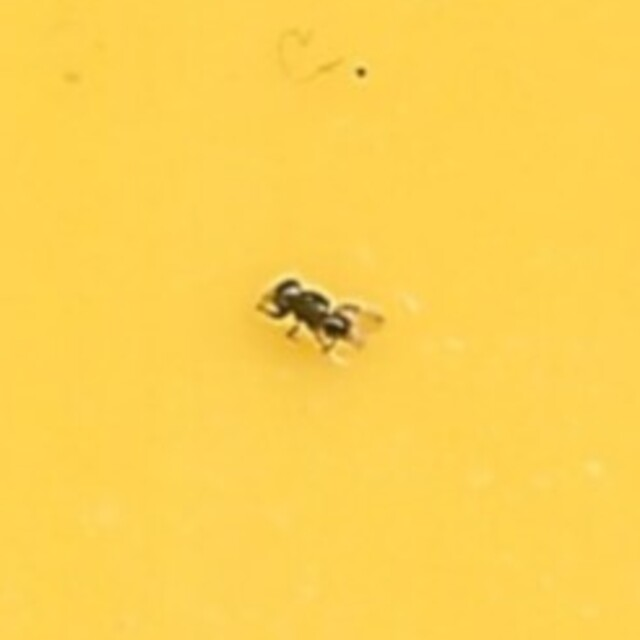Hymenoptera: (260, 278, 380, 362)
